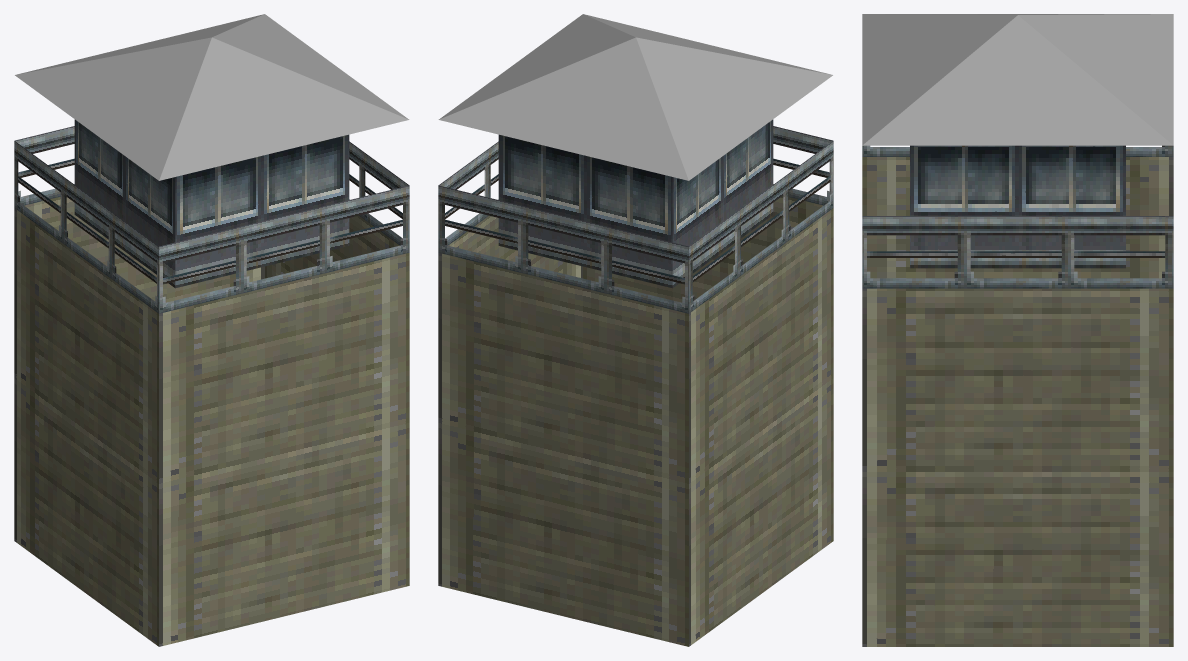
The model's file is Tower.obj.
The picture shows the model from 3 angles, left to right: view 1: azimuth 30°, elevation 25°; view 2: azimuth 150°, elevation 25°; view 3: azimuth 270°, elevation 25°; orthographic projection. The views are drawn at different scales.
Parts seen in each view (by area): view 1: Tower_Shape_IndexedFaceSet.299; view 2: Tower_Shape_IndexedFaceSet.299; view 3: Tower_Shape_IndexedFaceSet.299.
Boxes of the visible parts, x1,y1,x2,y2 form: Tower_Shape_IndexedFaceSet.299: [14, 14, 409, 646]; Tower_Shape_IndexedFaceSet.299: [438, 14, 833, 646]; Tower_Shape_IndexedFaceSet.299: [862, 14, 1173, 646].
Size of the model in its own units: 0.144 by 0.289 by 0.144.
4 materials, 3 textured.
